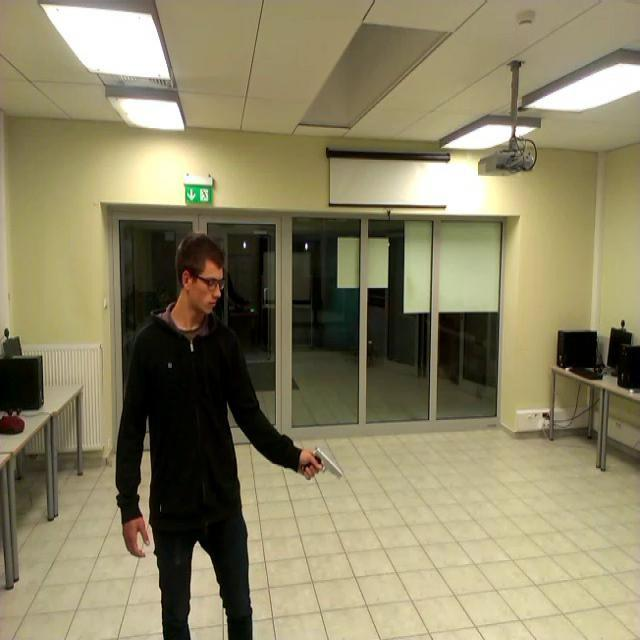weapon: (302, 444, 341, 480)
